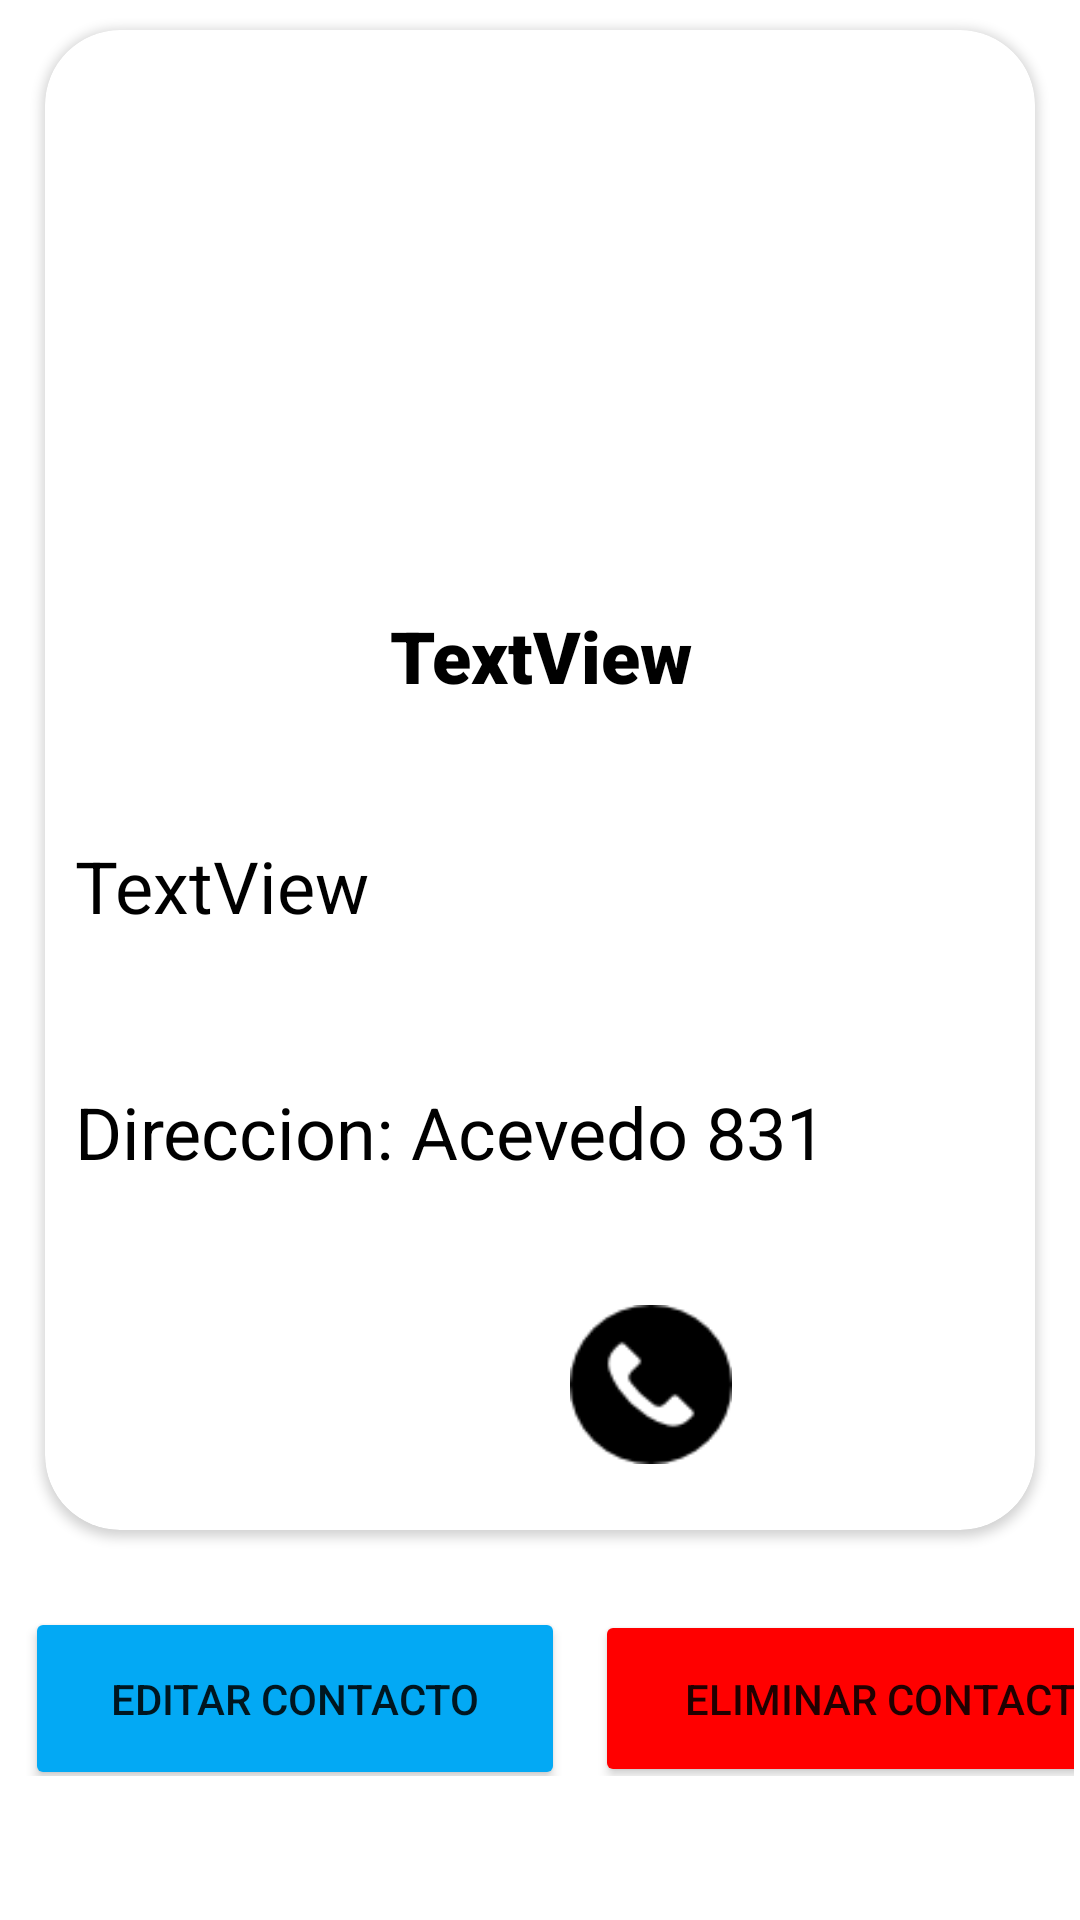

Screen size 1080×1920. Icon name, then its box in pixels as [x1, y1, x2, y2]:
llamada: [570, 1305, 732, 1464]
